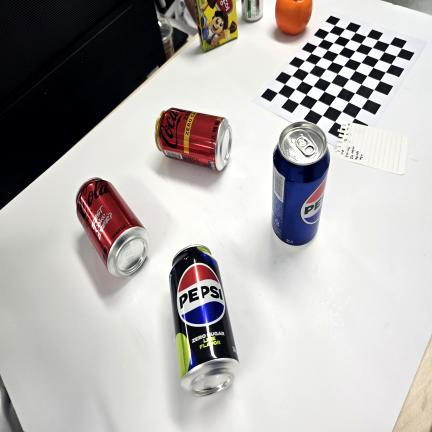can_coke_decaf: (155, 108, 232, 171)
can_coke_zero: (76, 178, 149, 277)
can_pepsi: (272, 121, 330, 246)
can_pepsi_zero: (169, 245, 239, 397)
